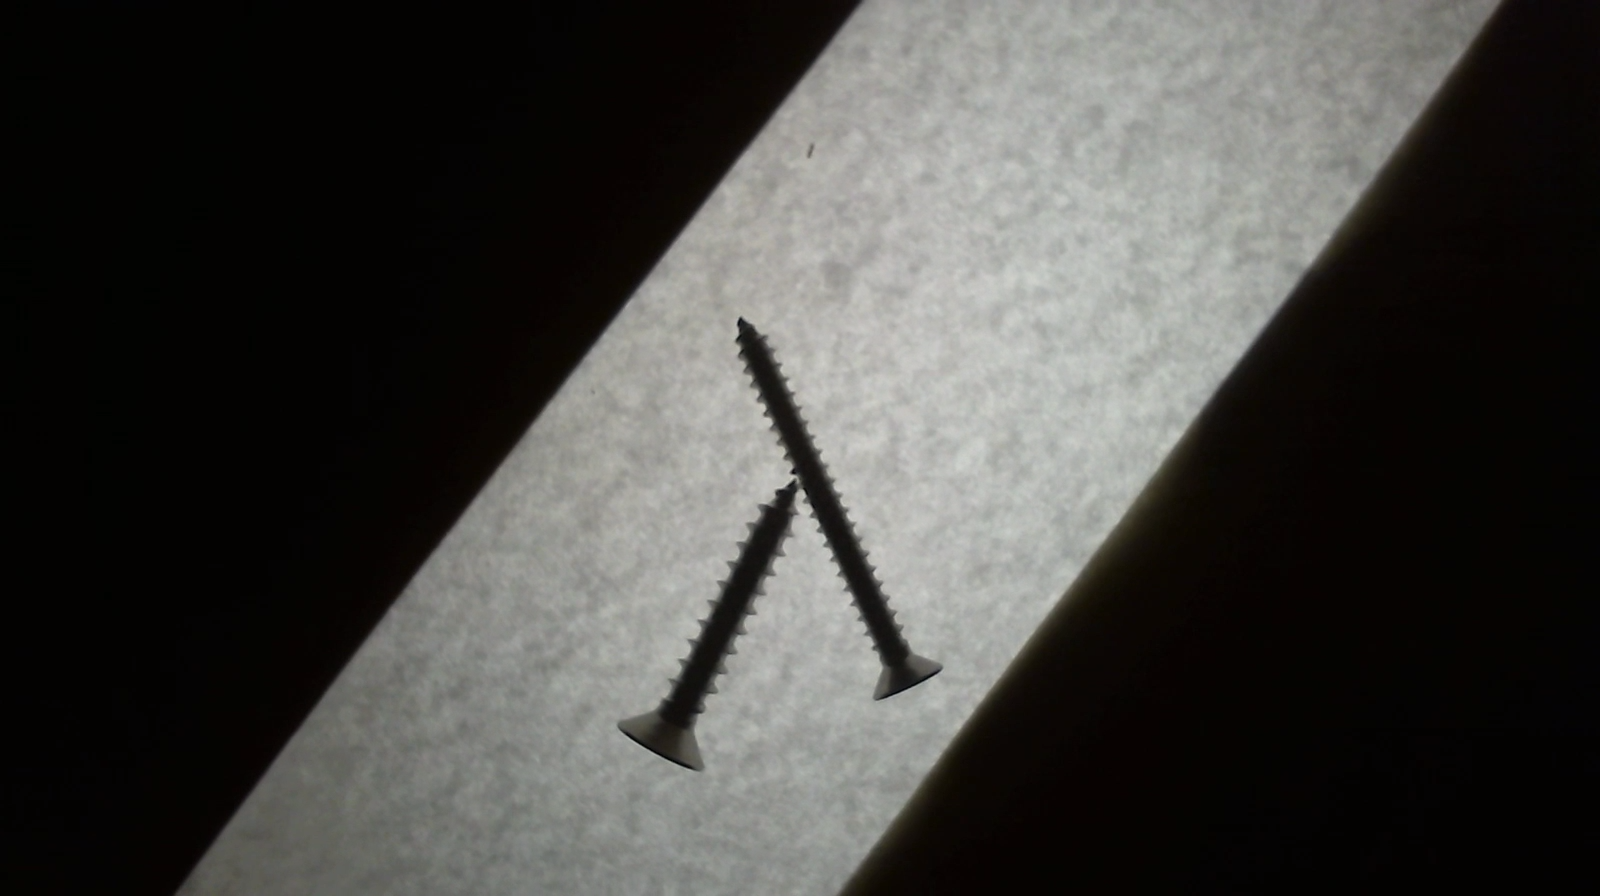S001: (609, 475, 803, 772)
S002: (736, 311, 945, 701)
